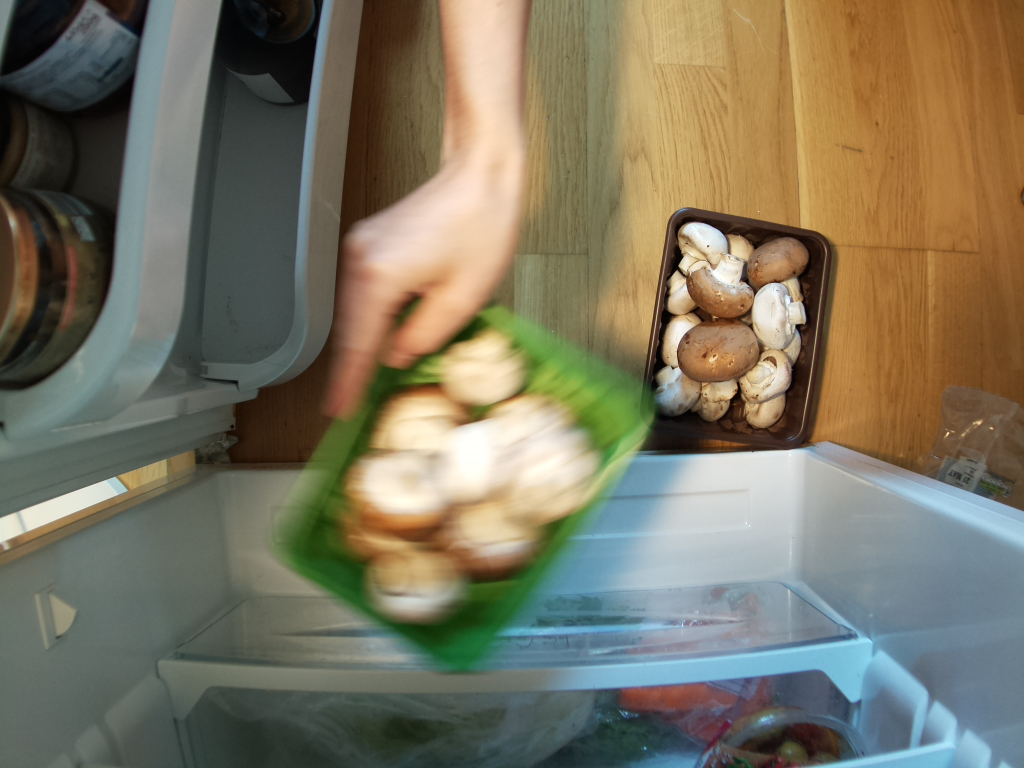mushrooms: (299, 300, 645, 672), (641, 211, 839, 442)
